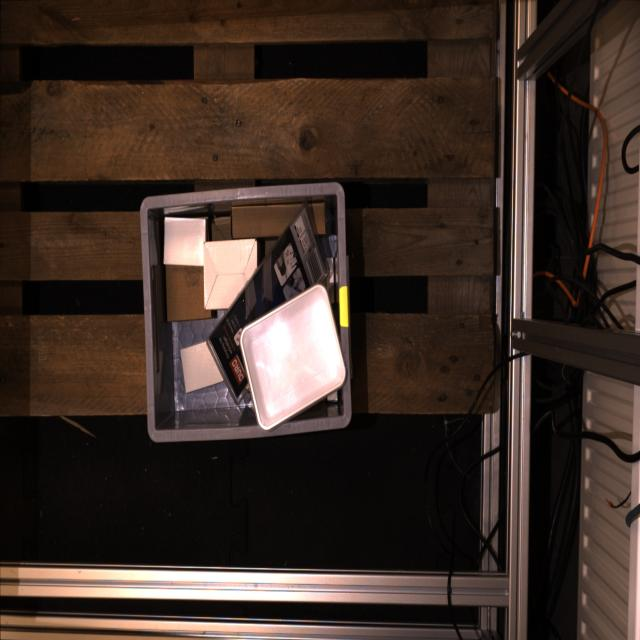CardboardBox: (204, 239, 260, 319), (231, 199, 305, 239), (166, 266, 211, 322), (180, 342, 224, 394), (163, 215, 206, 265), (211, 216, 232, 241), (313, 202, 326, 236), (327, 258, 334, 304)
ItemPackaging: (207, 207, 329, 398)
PlasticContainer: (239, 286, 349, 431)
